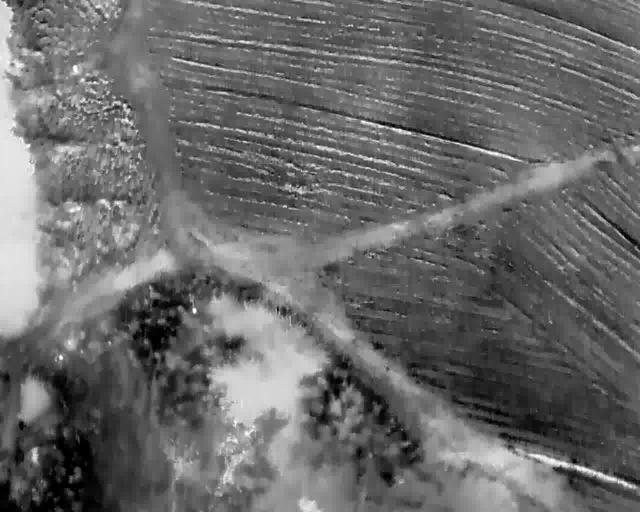person: (71, 64, 78, 74)
